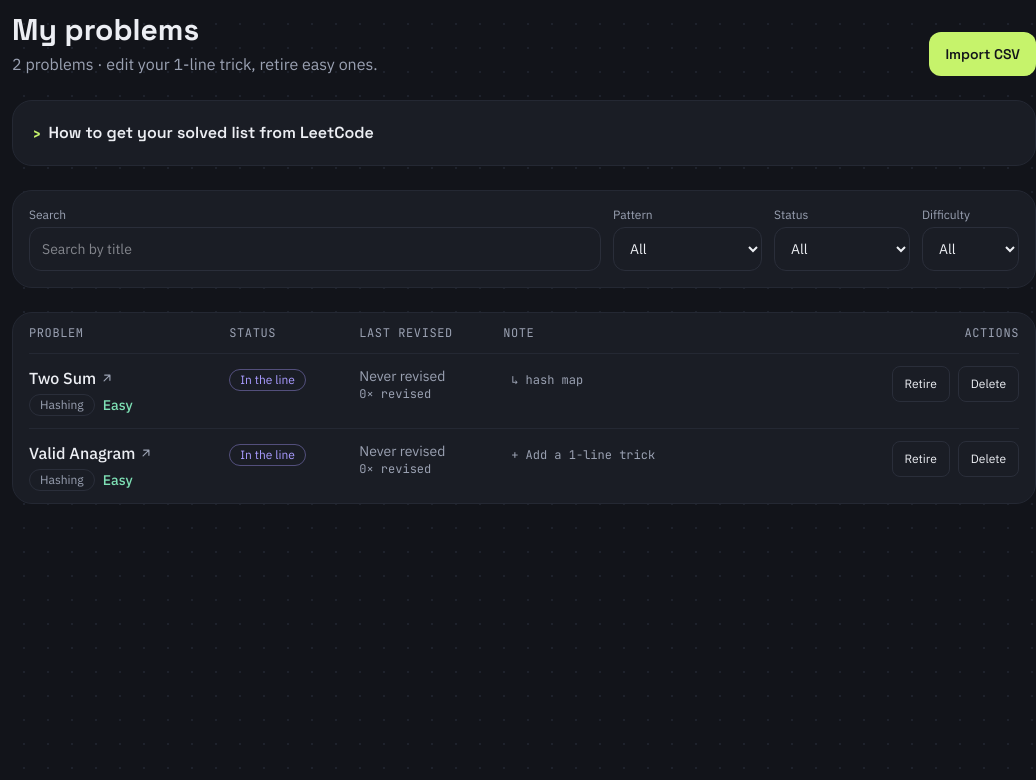
Test: My problems page › retires a problem
This screenshot has width=1036, height=780.
Click the button with aria-label "Retire Two Sum". click: click(921, 384)
box: [892,366,950,402]
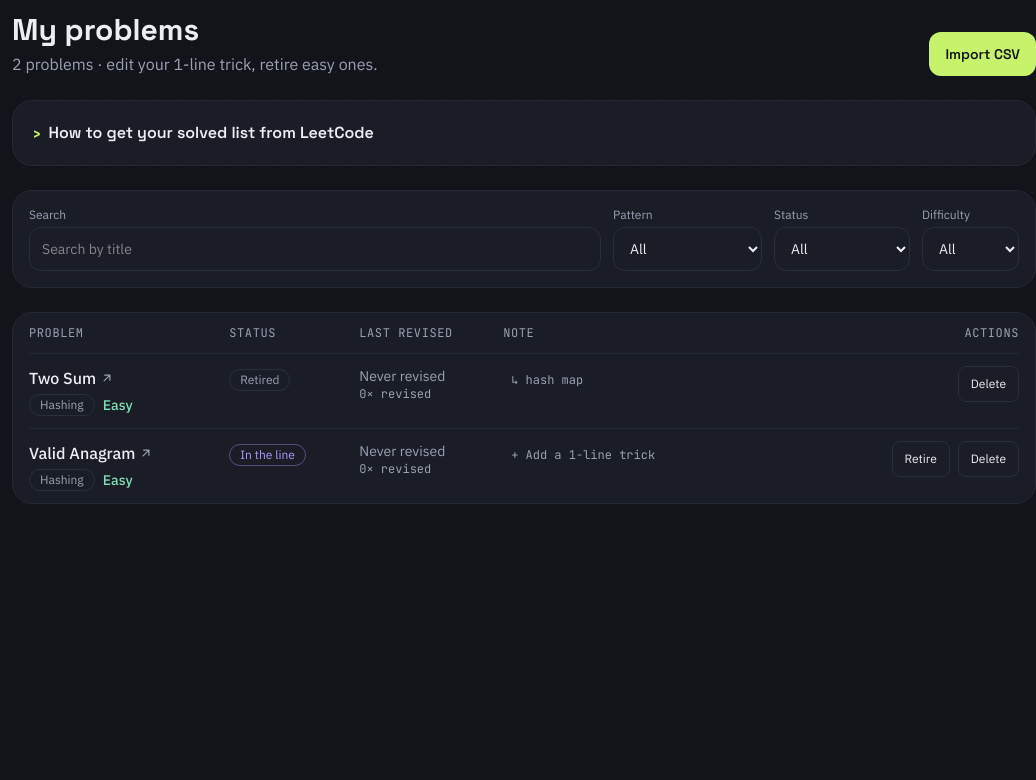
Now the text "Retired" is shown, box [229,369,290,391]
